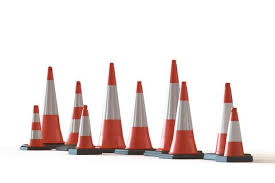cones: (162, 83, 202, 159), (101, 63, 127, 158), (160, 58, 185, 155), (125, 83, 154, 156), (216, 108, 253, 164), (40, 70, 63, 152), (210, 82, 234, 156), (70, 106, 100, 156), (66, 78, 84, 151), (25, 105, 49, 150)
